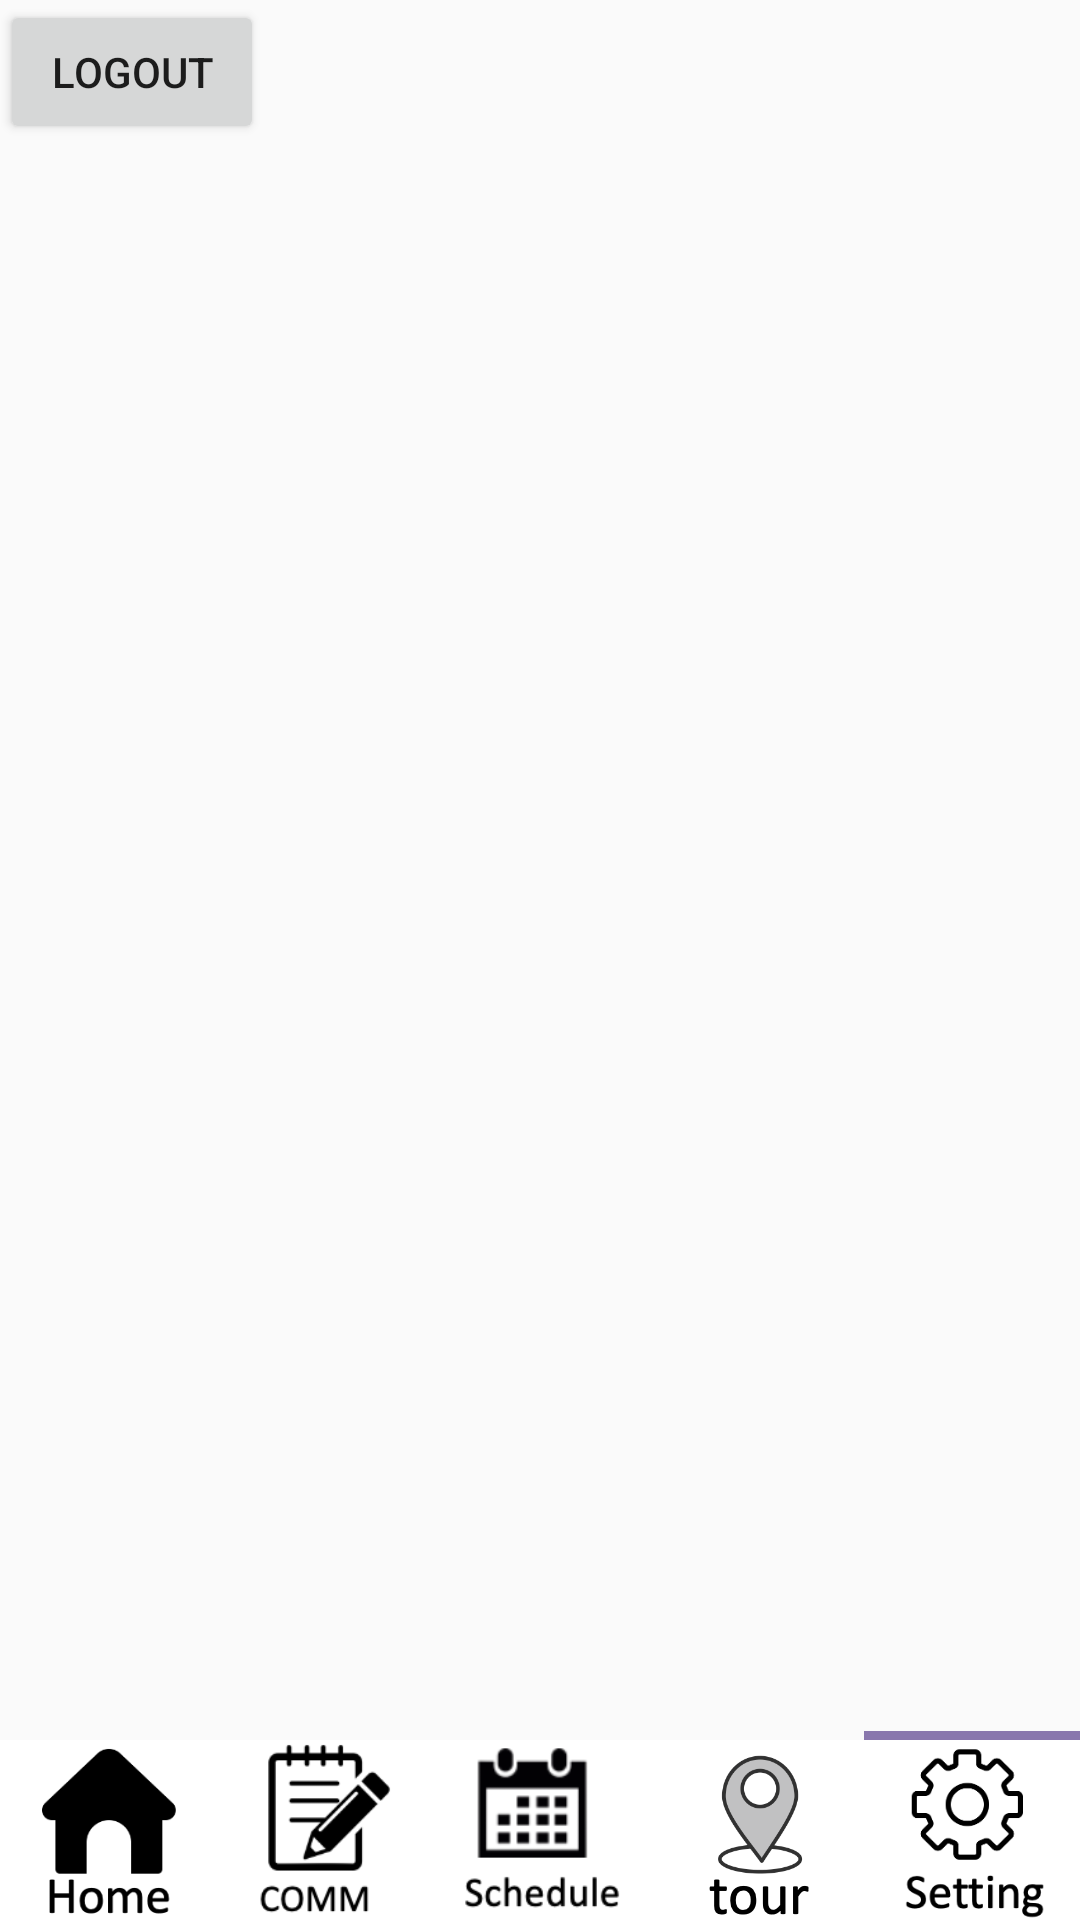

Icon bounding boxes for this 1080*1920 phone screenshot, format (x1, y1, x2, y2):
map: (709, 1755, 809, 1915)
